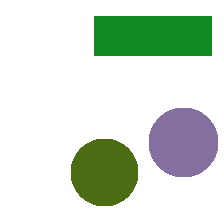circle: (149, 108, 217, 176), (71, 139, 137, 205)
rectangle: (94, 16, 211, 55)
